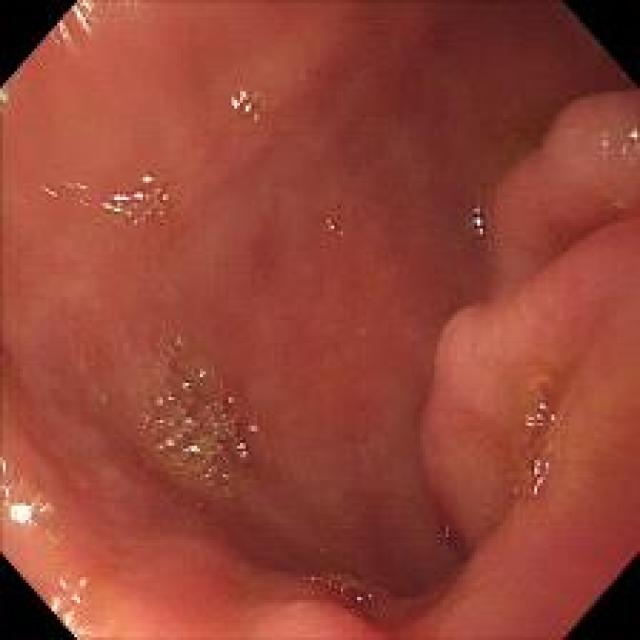bubbles: (144, 352, 268, 495), (512, 360, 580, 516), (304, 559, 390, 612)
specularity: (151, 368, 256, 464), (61, 170, 165, 229), (524, 404, 551, 498), (0, 485, 51, 532), (50, 576, 91, 631), (56, 0, 99, 41), (228, 84, 260, 120), (472, 201, 485, 238), (324, 218, 344, 236), (0, 82, 9, 111), (630, 125, 638, 142)
